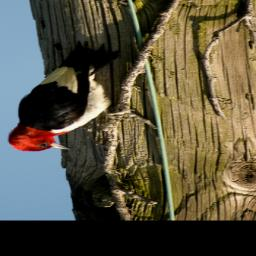Woodpecker: (6, 41, 138, 153)
